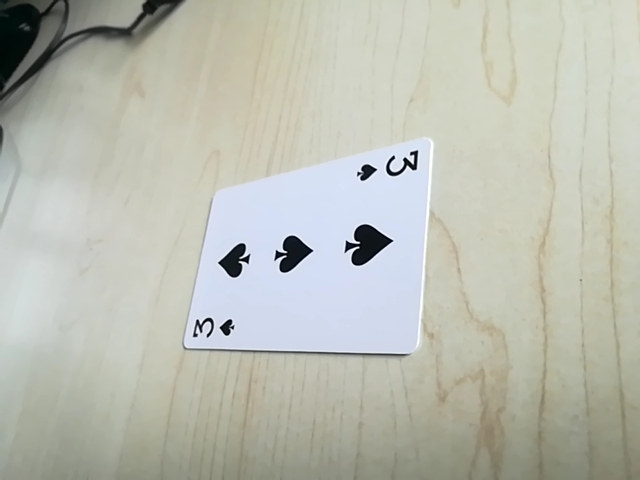ht 3: (353, 148, 425, 188), (188, 311, 241, 346)
